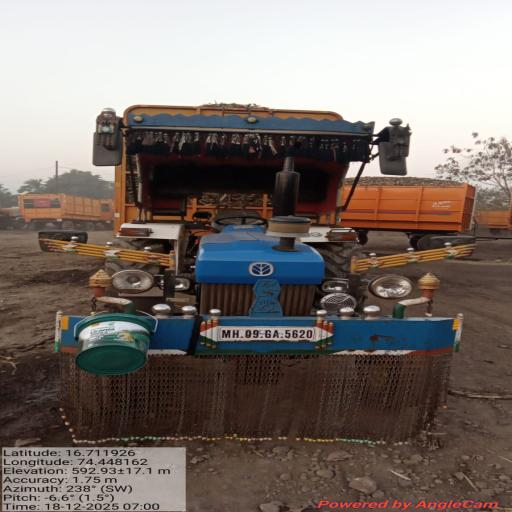number_plate: (218, 327, 315, 341)
